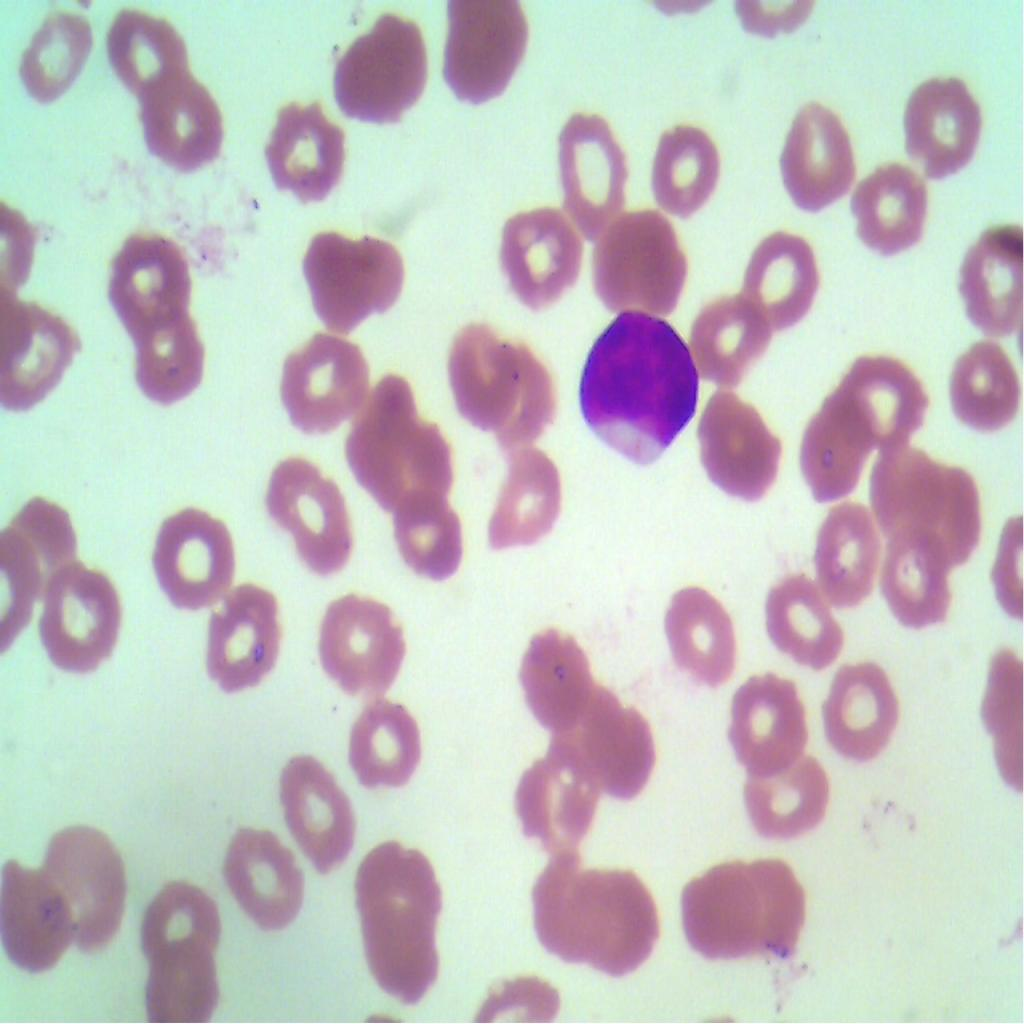Eritrosit: (291, 227, 416, 334), (590, 195, 689, 328), (438, 0, 542, 121), (322, 8, 423, 130), (488, 200, 598, 312), (0, 0, 106, 114), (259, 458, 356, 580), (218, 815, 308, 945), (269, 319, 370, 429), (42, 824, 130, 950), (898, 65, 988, 186), (333, 690, 431, 801), (259, 95, 353, 210), (132, 64, 226, 178), (268, 749, 358, 868), (0, 860, 86, 984), (831, 332, 924, 445), (0, 302, 83, 428), (483, 438, 569, 559), (776, 84, 861, 205), (704, 397, 791, 515), (553, 111, 629, 245), (815, 654, 903, 768), (128, 312, 218, 422), (316, 586, 403, 698), (578, 698, 666, 808), (935, 337, 1023, 442), (142, 498, 235, 597), (44, 559, 126, 671), (649, 108, 726, 227), (763, 559, 846, 669), (658, 588, 740, 698), (104, 231, 193, 332), (348, 838, 442, 932), (954, 212, 1023, 340), (731, 858, 814, 964), (683, 854, 761, 966), (99, 4, 188, 102), (586, 884, 668, 989), (849, 158, 930, 264), (440, 324, 518, 432), (738, 225, 816, 332), (739, 749, 833, 837), (913, 462, 981, 583), (798, 397, 872, 508), (126, 882, 221, 968), (722, 672, 806, 767), (369, 897, 439, 1011), (208, 589, 286, 691), (4, 492, 79, 598), (534, 855, 608, 962), (869, 442, 941, 550), (482, 349, 559, 447), (690, 285, 764, 385), (875, 531, 944, 638), (523, 622, 591, 728), (815, 501, 884, 605), (142, 944, 228, 1023), (398, 492, 464, 584)
Limfoblast: (574, 284, 700, 474)
